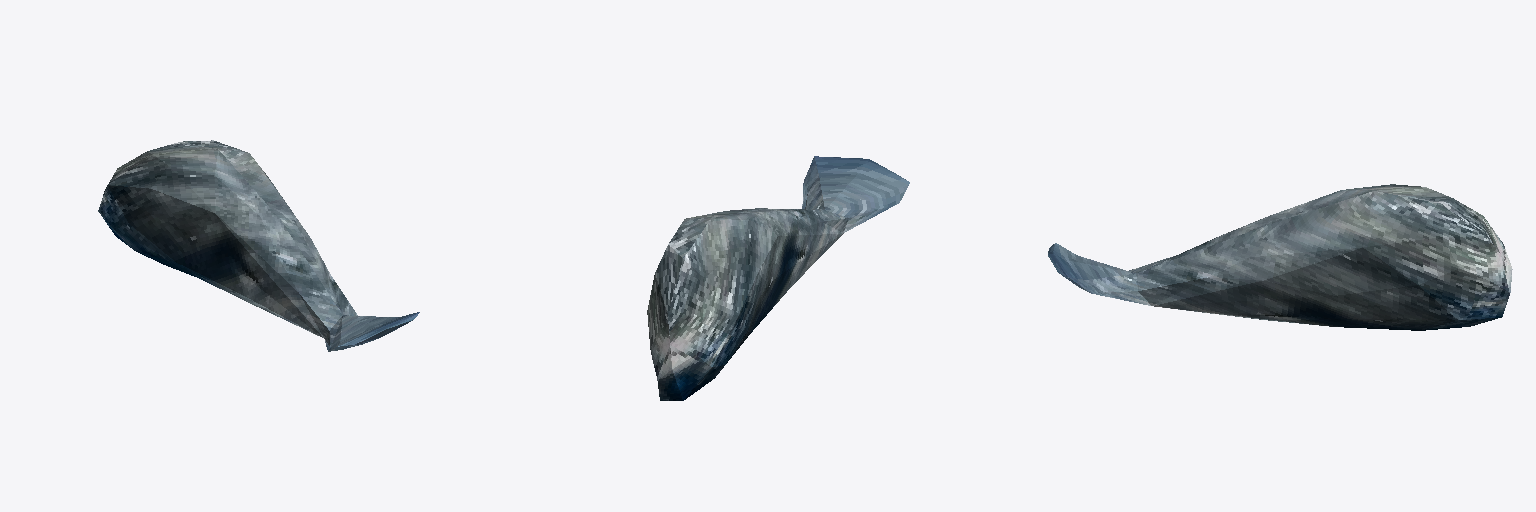
The picture shows the model from 3 angles: view 1: azimuth 30°, elevation 25°; view 2: azimuth 150°, elevation 25°; view 3: azimuth 270°, elevation 25°; orthographic projection.
Parts seen in each view (by area): view 1: Icosphere; view 2: Icosphere; view 3: Icosphere.
Part boxes in pixels (x1,y1,x2,y2): Icosphere: (98, 140, 419, 351); Icosphere: (647, 156, 909, 400); Icosphere: (1048, 184, 1512, 330).
Size of the model in its own units: 4.74 by 5.3 by 16.01.
Materials: 1 (1 with a texture image).